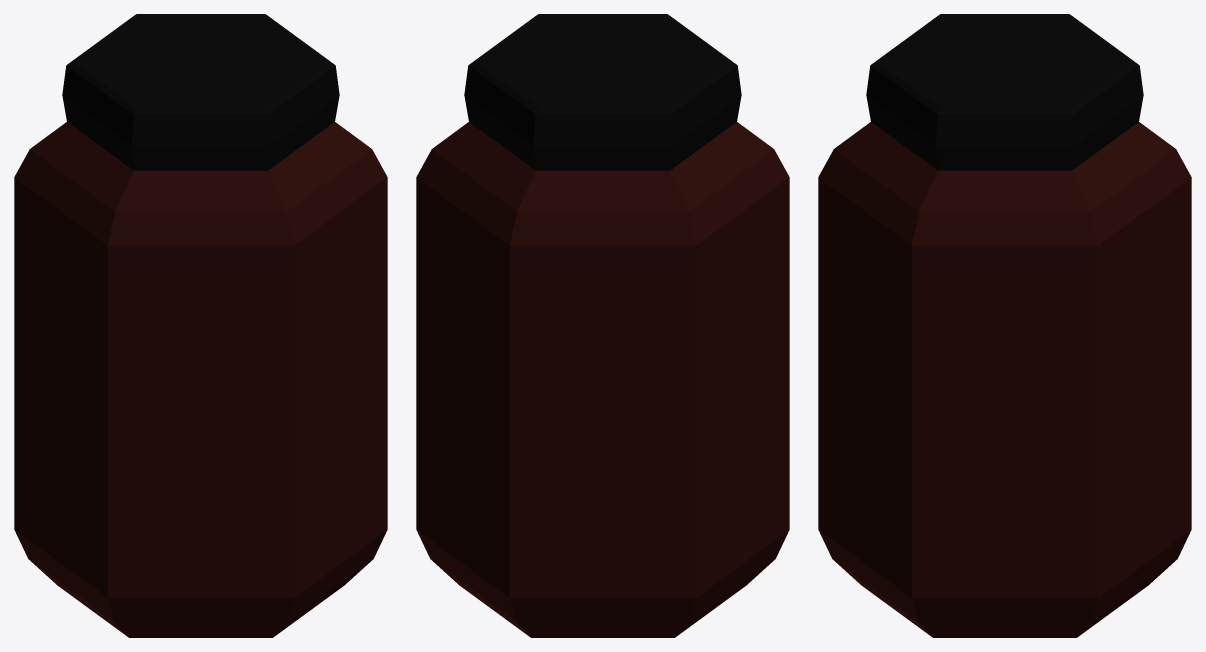
Rendered from Protein1.obj.
3 renders of one model, left to right at view 1: azimuth 30°, elevation 25°; view 2: azimuth 150°, elevation 25°; view 3: azimuth 270°, elevation 25°, orthographic.
Parts seen in each view (by area): view 1: Protein1_Cylinder; view 2: Protein1_Cylinder; view 3: Protein1_Cylinder.
Part boxes in pixels (box(x1,y1,x2,y2)): Protein1_Cylinder: box(14, 14, 387, 637); Protein1_Cylinder: box(416, 14, 789, 637); Protein1_Cylinder: box(818, 14, 1191, 637).
Size of the model in its own units: 0.1504 by 0.269 by 0.1736.
